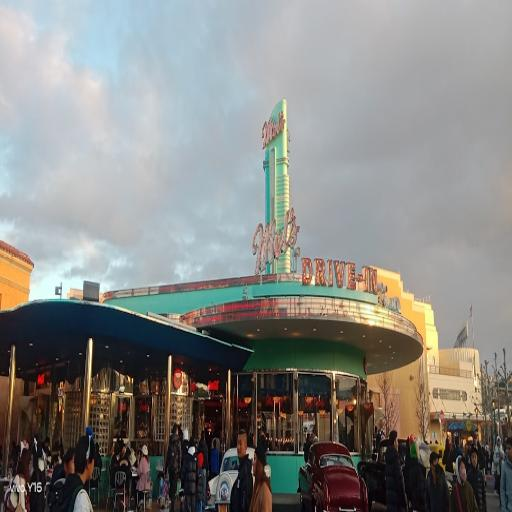face: (237, 434, 247, 458), (459, 464, 466, 482), (471, 452, 478, 468), (252, 453, 257, 475)
